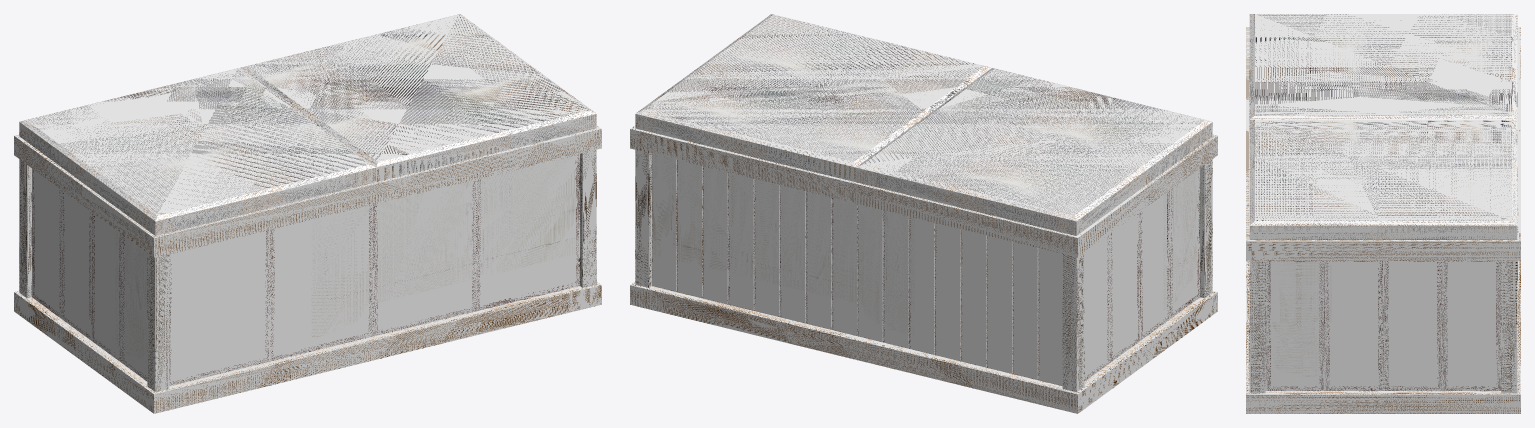
3 renders of one model, left to right at view 1: azimuth 30°, elevation 25°; view 2: azimuth 150°, elevation 25°; view 3: azimuth 270°, elevation 25°, orthographic.
Visible parts, largest first — view 1: mesh1_mesh1-geometry; view 2: mesh1_mesh1-geometry; view 3: mesh1_mesh1-geometry.
Boxes of the visible parts, x1,y1,x2,y2 form: mesh1_mesh1-geometry: [14, 14, 601, 413]; mesh1_mesh1-geometry: [630, 14, 1217, 413]; mesh1_mesh1-geometry: [1246, 14, 1520, 413].
Size of the model in its own units: 0.8268 by 0.3402 by 0.4479.
